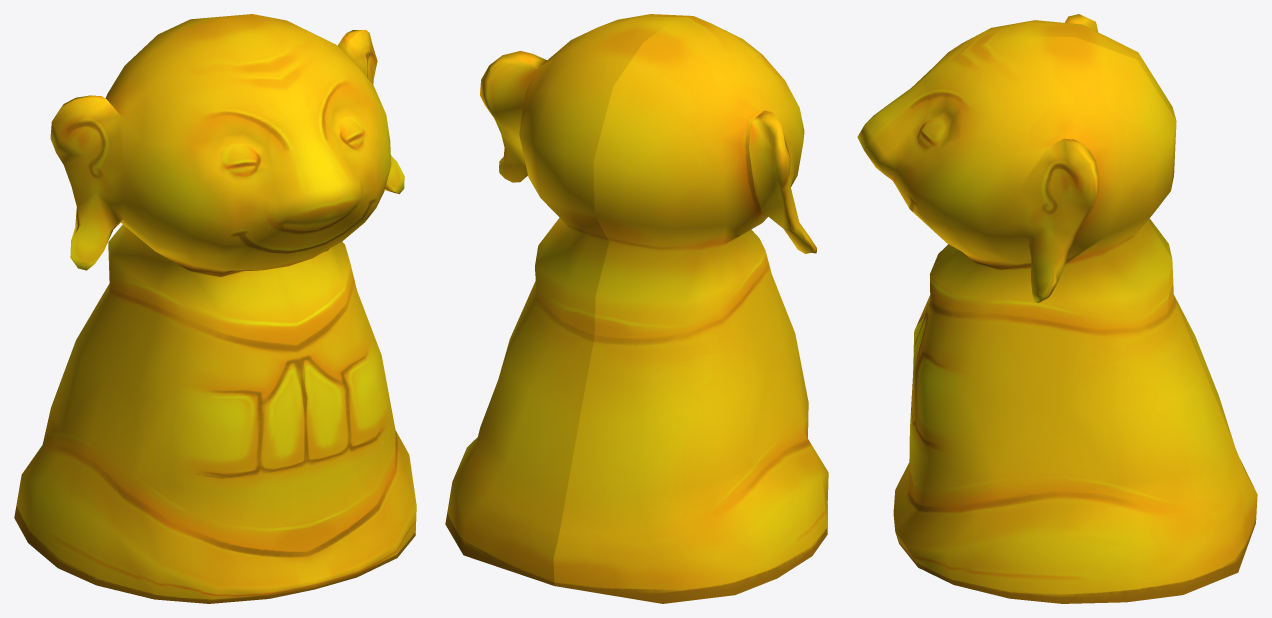
File: SM_Item_Hiyoribou.fbx
3 views of the same model, side by side, from view 1: azimuth 30°, elevation 25°; view 2: azimuth 150°, elevation 25°; view 3: azimuth 270°, elevation 25° (orthographic). The views are drawn at different scales.
Parts seen in each view (by area): view 1: SM_Item_Hiyoribou; view 2: SM_Item_Hiyoribou; view 3: SM_Item_Hiyoribou.
Boxes of the visible parts, bbox=[...] form: SM_Item_Hiyoribou: bbox=[14, 14, 416, 603]; SM_Item_Hiyoribou: bbox=[445, 14, 828, 603]; SM_Item_Hiyoribou: bbox=[857, 14, 1257, 603].
Bounding box in the file's own units: 19.54 × 27.55 × 20.46.
